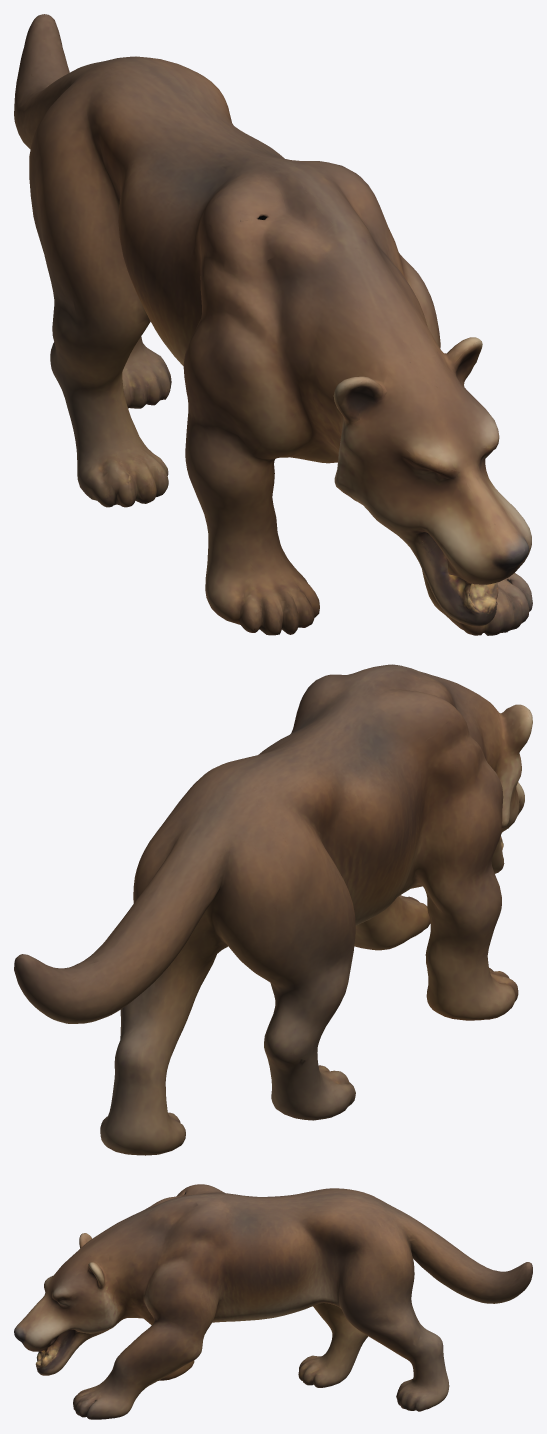
3 renders of one model, top to bottom at view 1: azimuth 30°, elevation 25°; view 2: azimuth 150°, elevation 25°; view 3: azimuth 270°, elevation 25°, orthographic. The views are drawn at different scales.
Parts seen in each view (by area): view 1: world; view 2: world; view 3: world.
Boxes of the visible parts, <box> form: world: <box>14,14,532,635</box>; world: <box>14,664,532,1155</box>; world: <box>14,1184,532,1419</box>.
Size of the model in its own units: 0.7805 by 1.19 by 2.8.
1 material, 1 textured.
